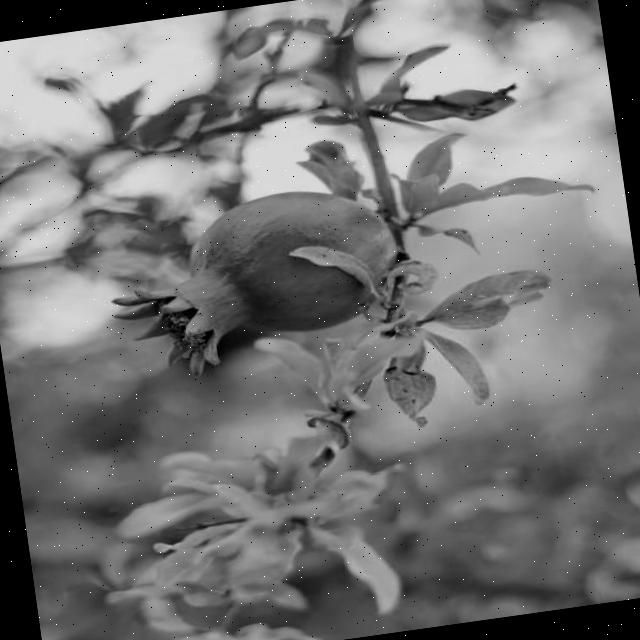Unripe: (101, 177, 414, 384)
